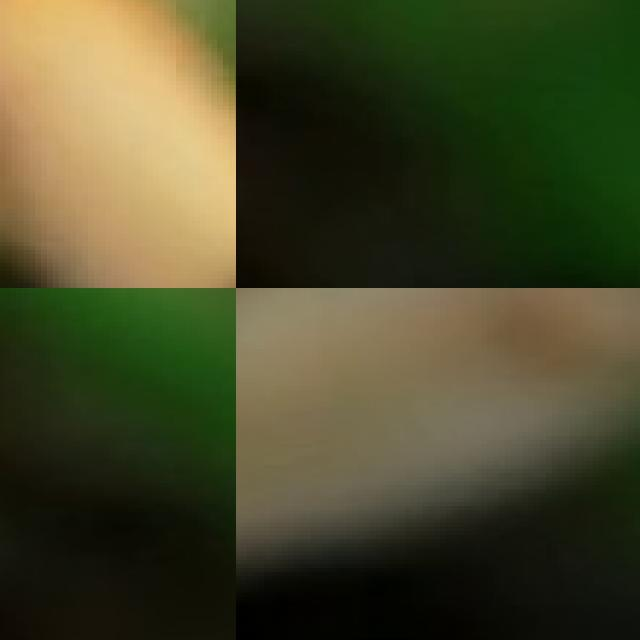fish: (236, 288, 640, 640), (0, 0, 236, 288)
